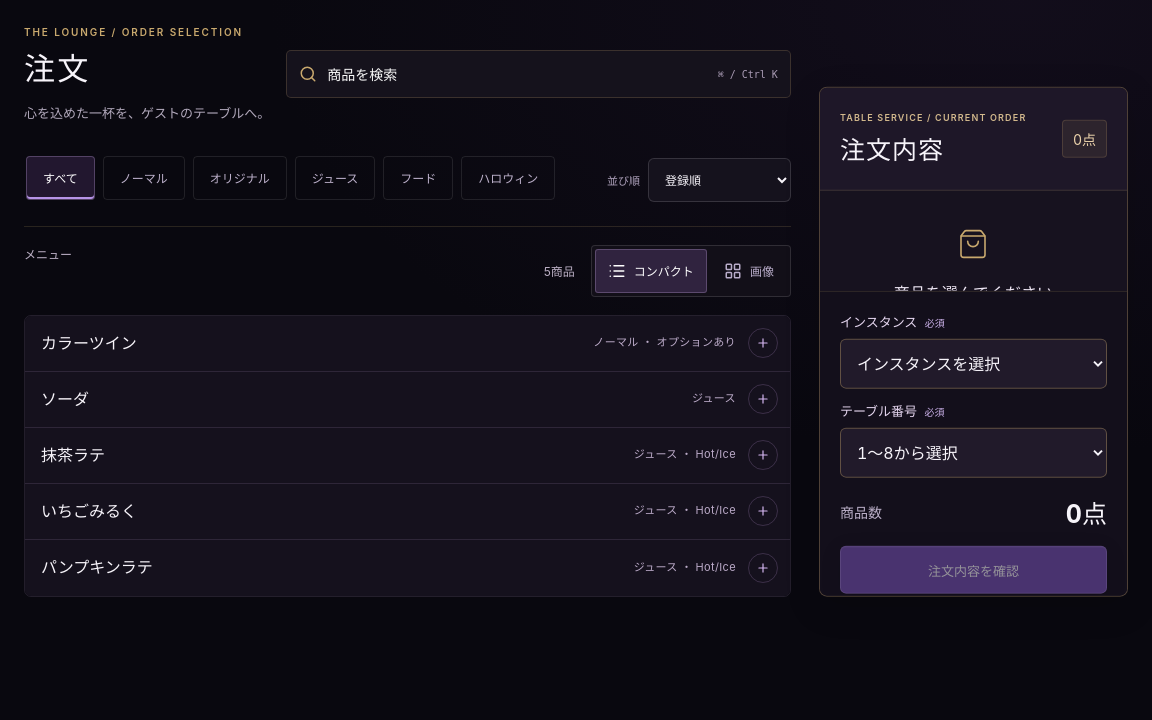
Scenario: POS注文フロー › カードから即時追加し、確認までは送信しない。8番・数量2を送る
The width and height of the screenshot is (1152, 720).
Click the button with aria-label "ソーダをカートに追加".
click(65, 399)  # box [25, 372, 790, 428]
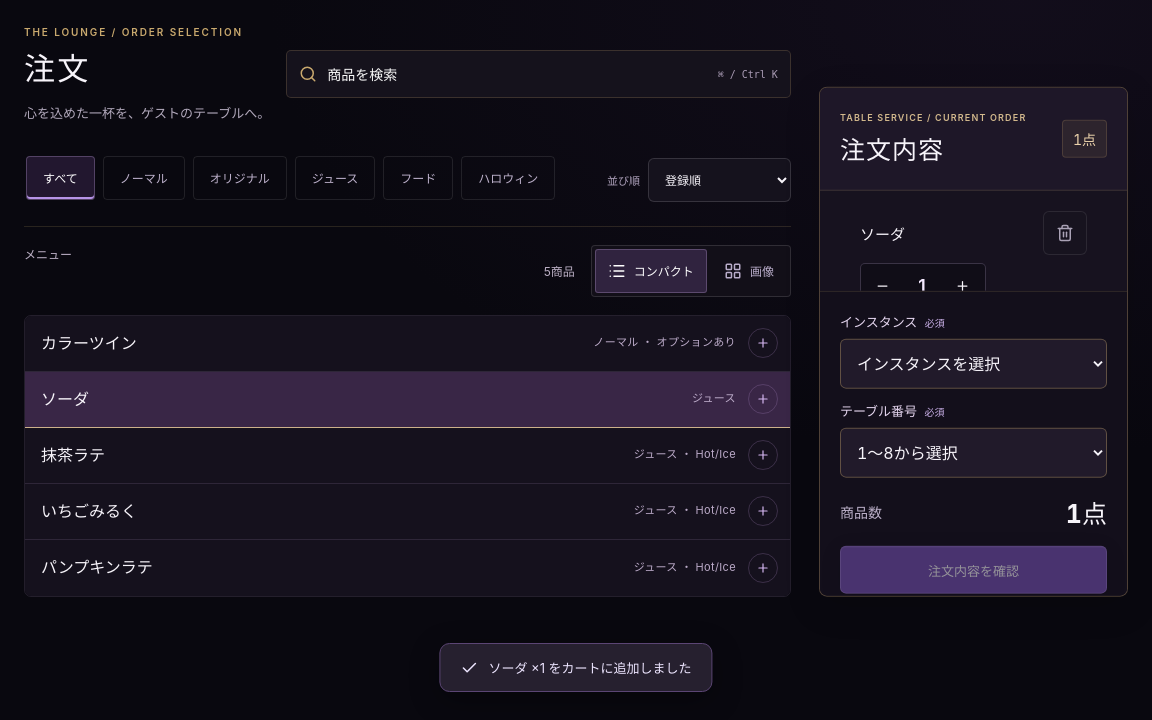
Click the button named "ソーダを1個増やす".
click(963, 286)  # box [941, 264, 985, 308]
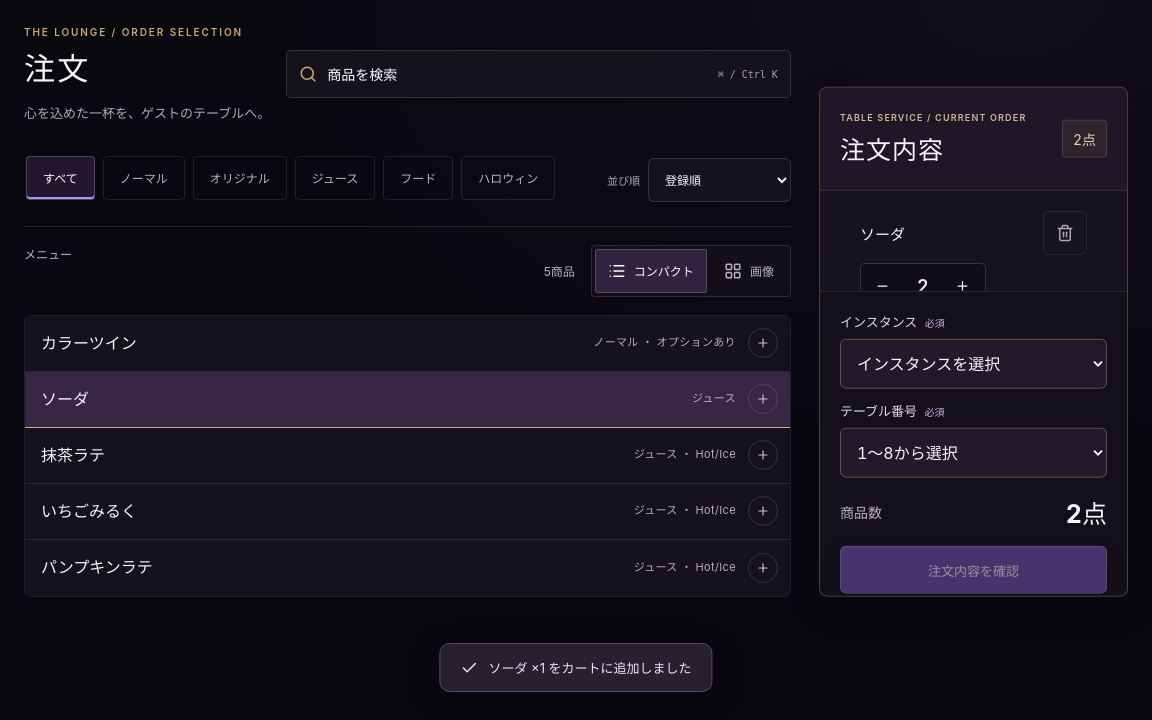
Select "第二インスタンス" in the dropdown labelled "インスタンス 必須" at (973, 364), box [840, 339, 1107, 389]
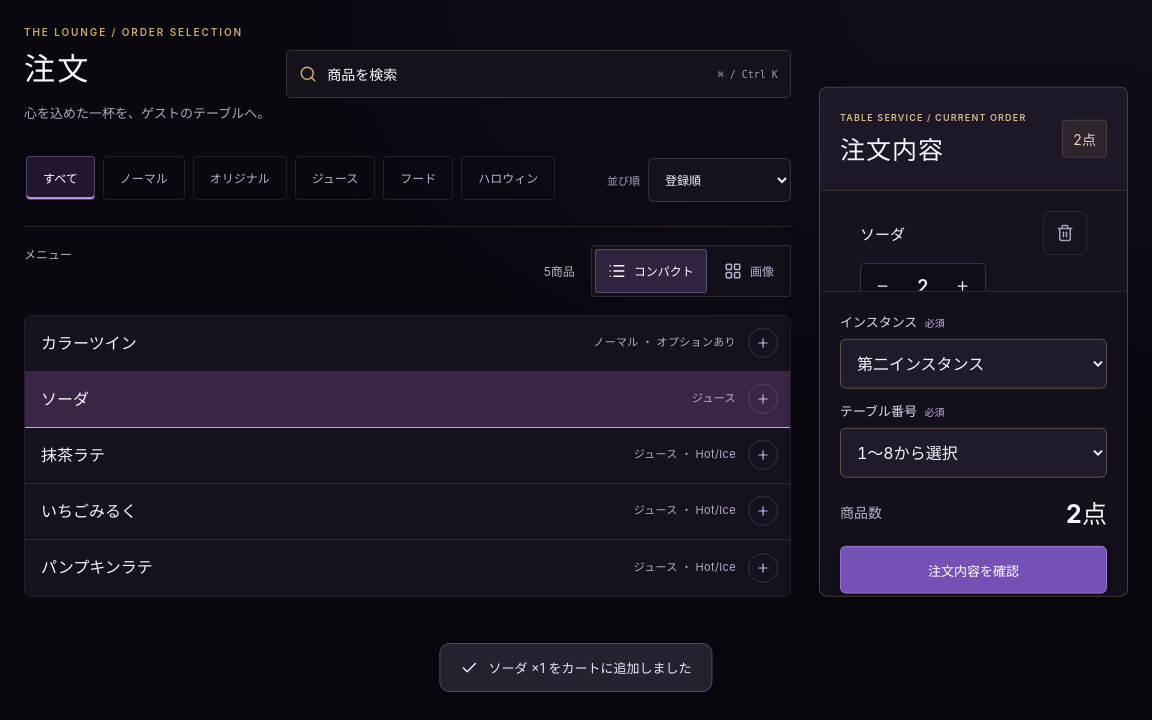
Select "テーブル 8" in the dropdown labelled "テーブル番号 必須" at (973, 453), box [840, 428, 1107, 478]
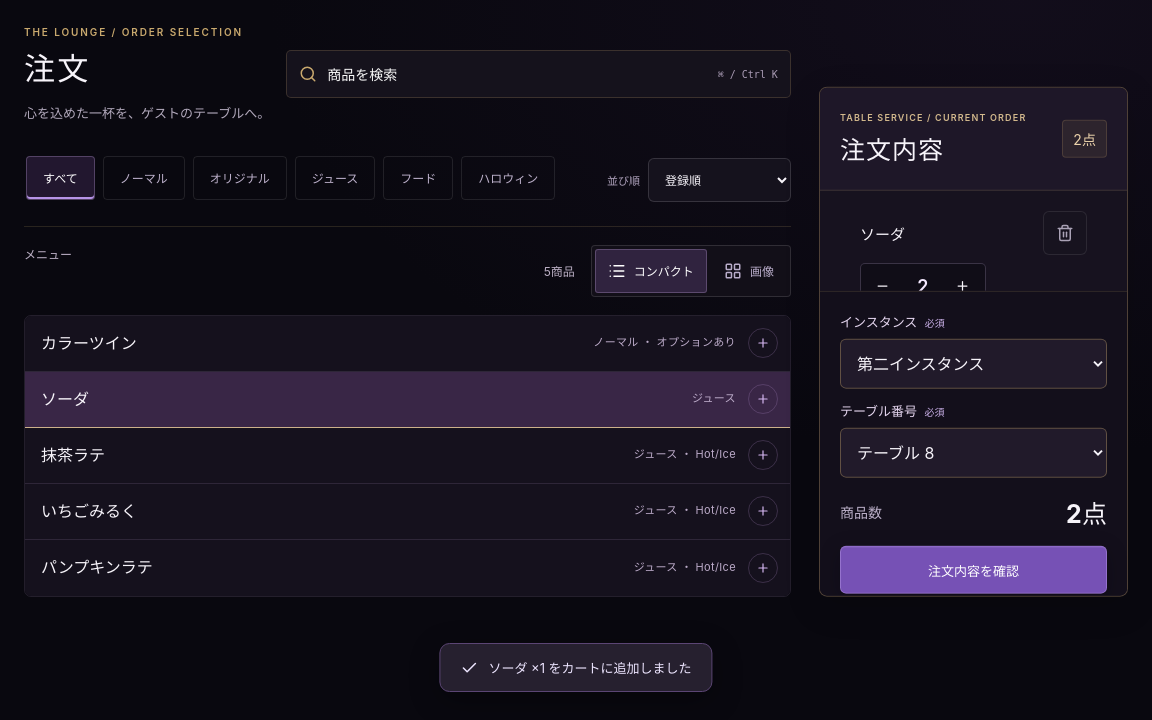
Click the button "注文内容を確認".
click(973, 570)  # box [840, 546, 1107, 594]
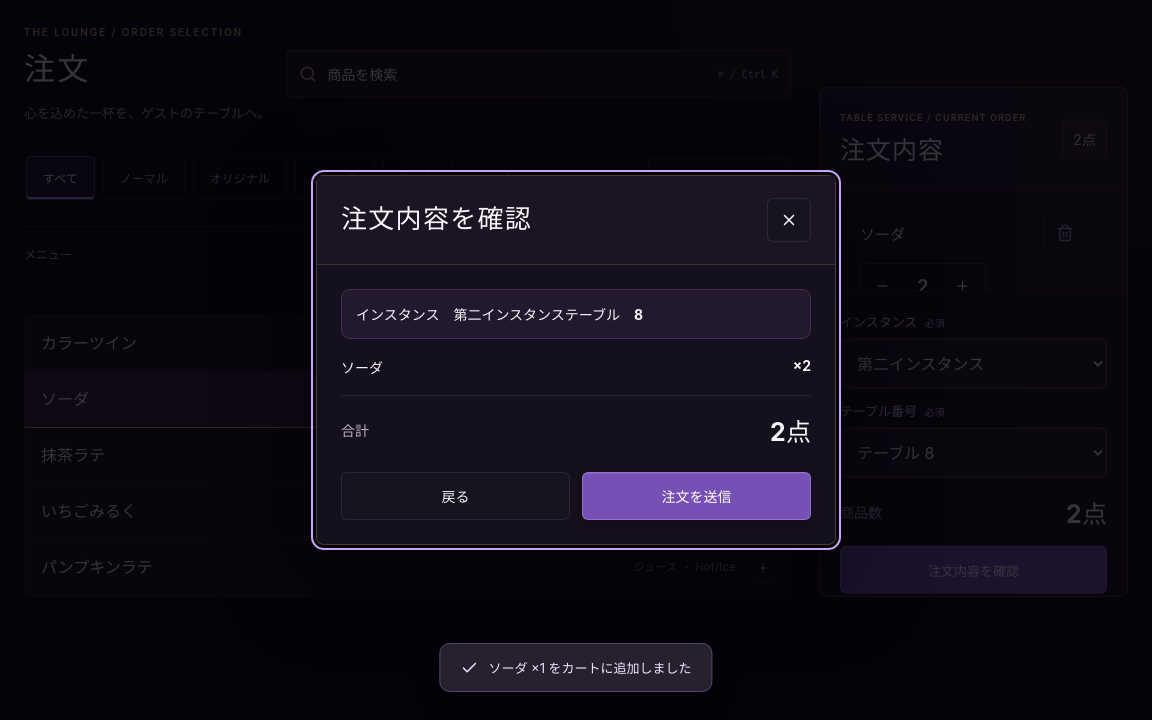
Result: the dialog shows "×2" at [316, 175, 836, 545]
Click the button "注文を送信".
click(696, 496)  # box [582, 472, 811, 520]
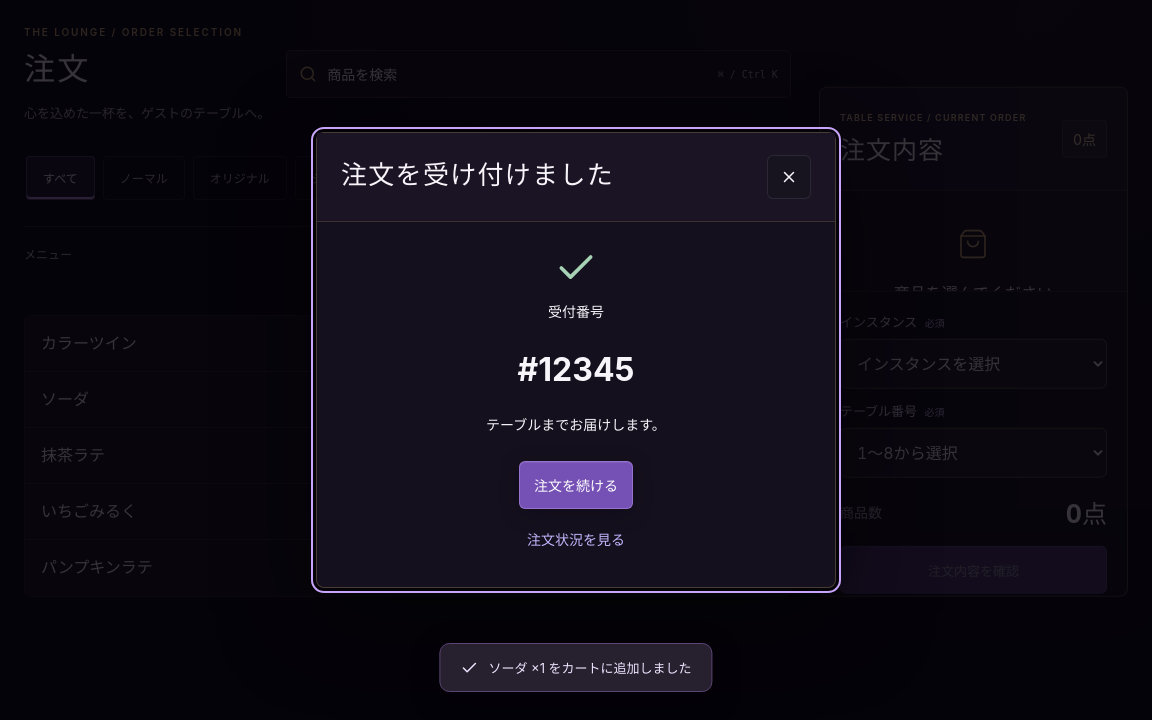
Result: the heading "#12345" is shown at [518, 348, 634, 393]
